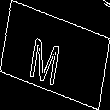M_N: (37, 25, 73, 85)
